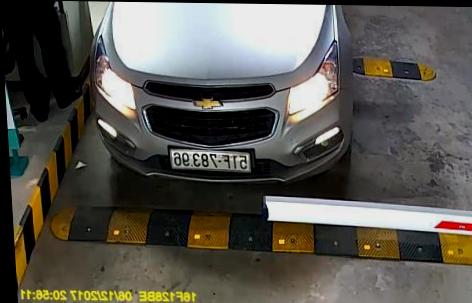License_Plate: (169, 142, 254, 174)
